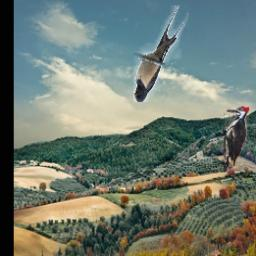Swallow: (133, 7, 188, 103)
Woodpecker: (224, 107, 249, 174)
